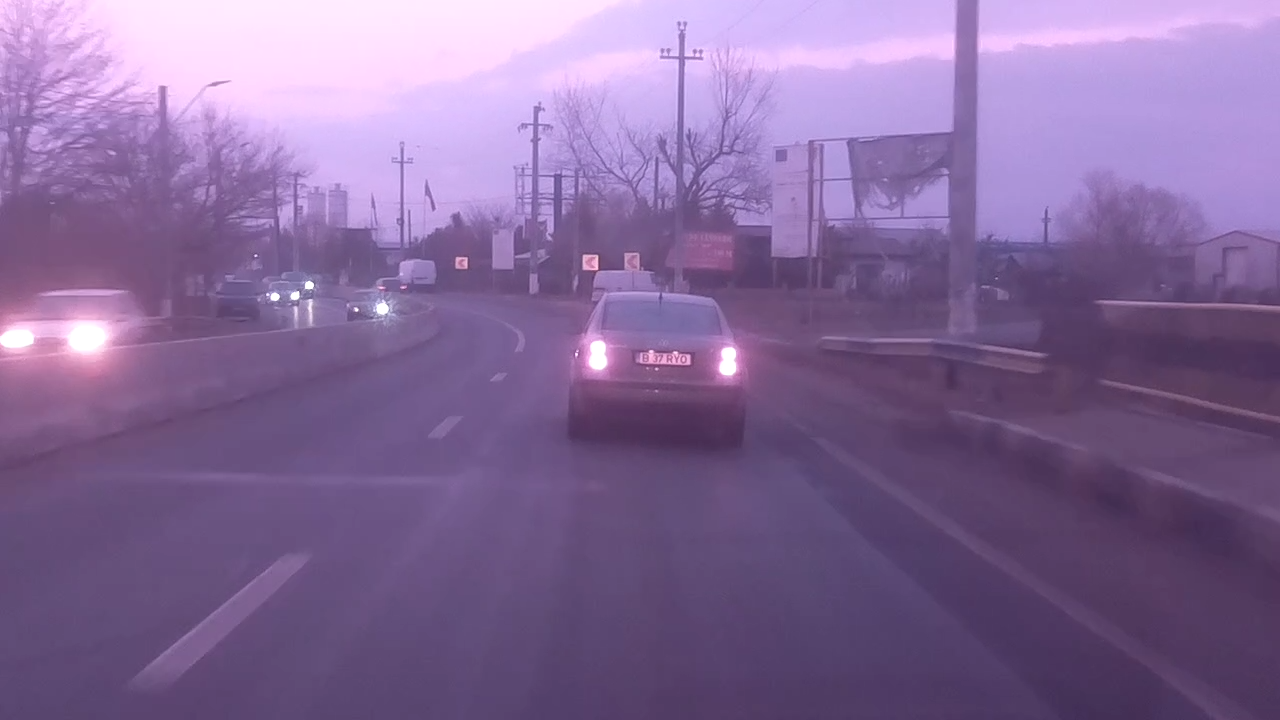license-plate: (631, 348, 695, 368)
